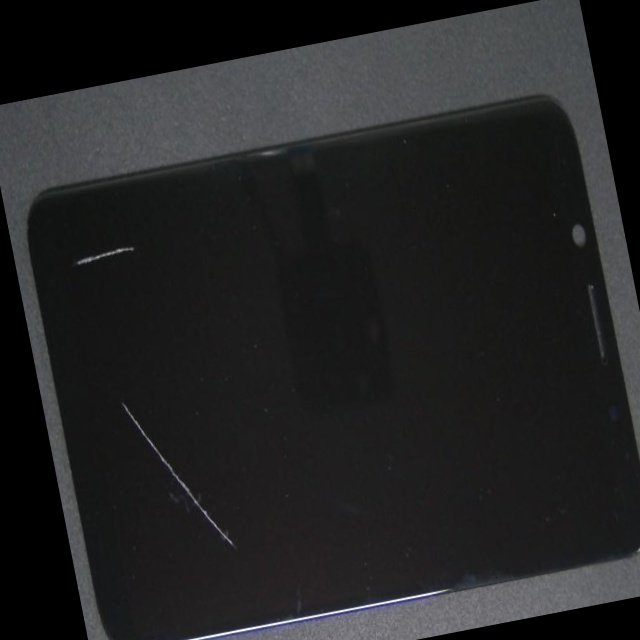scratch: (186, 384, 315, 640), (95, 148, 181, 313)
